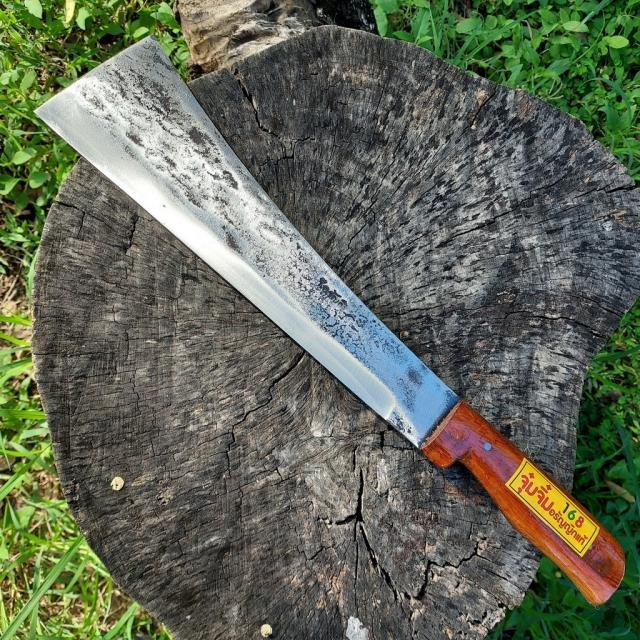eto: (14, 25, 637, 613)
